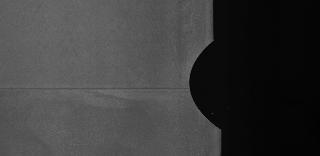welding line: (4, 84, 202, 96)
